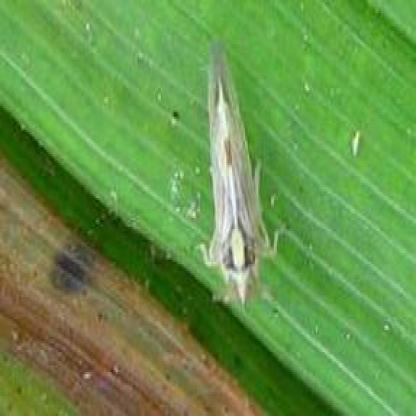brown-planthopper: (198, 38, 274, 307)
